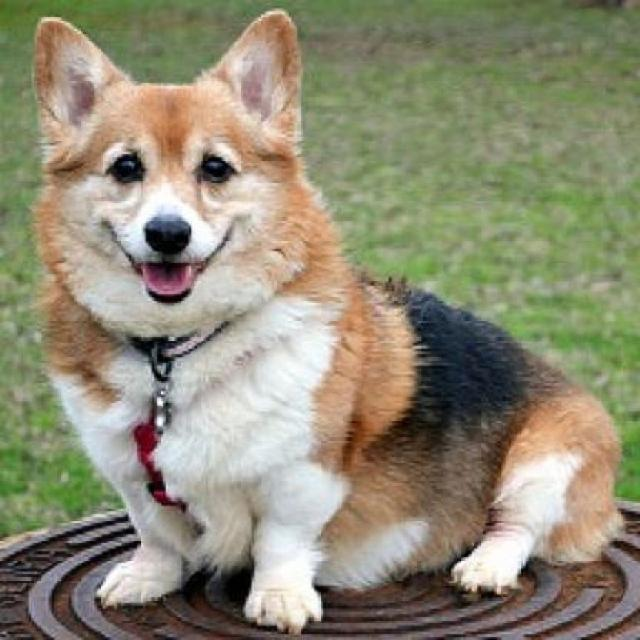Dog: (28, 7, 630, 638)
